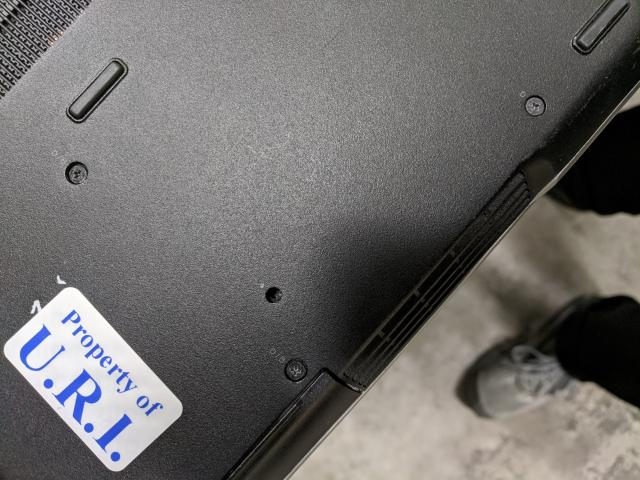CRS: (61, 157, 95, 188), (522, 92, 547, 117), (284, 360, 308, 382)
